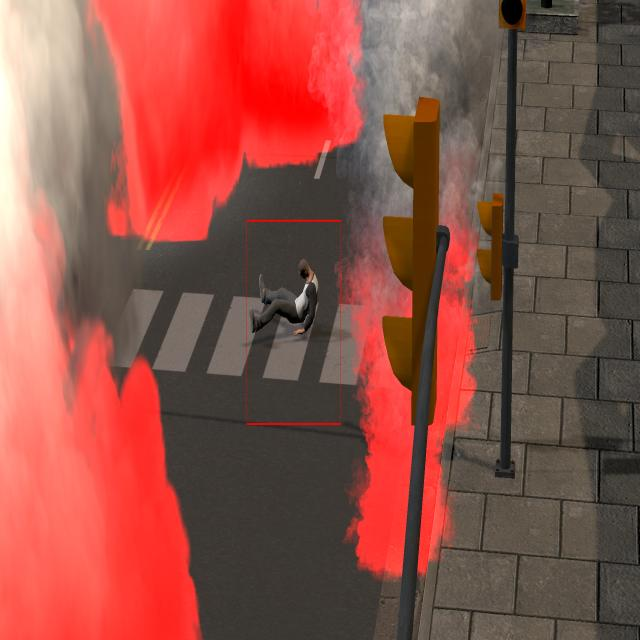Human: (250, 250, 325, 343)
